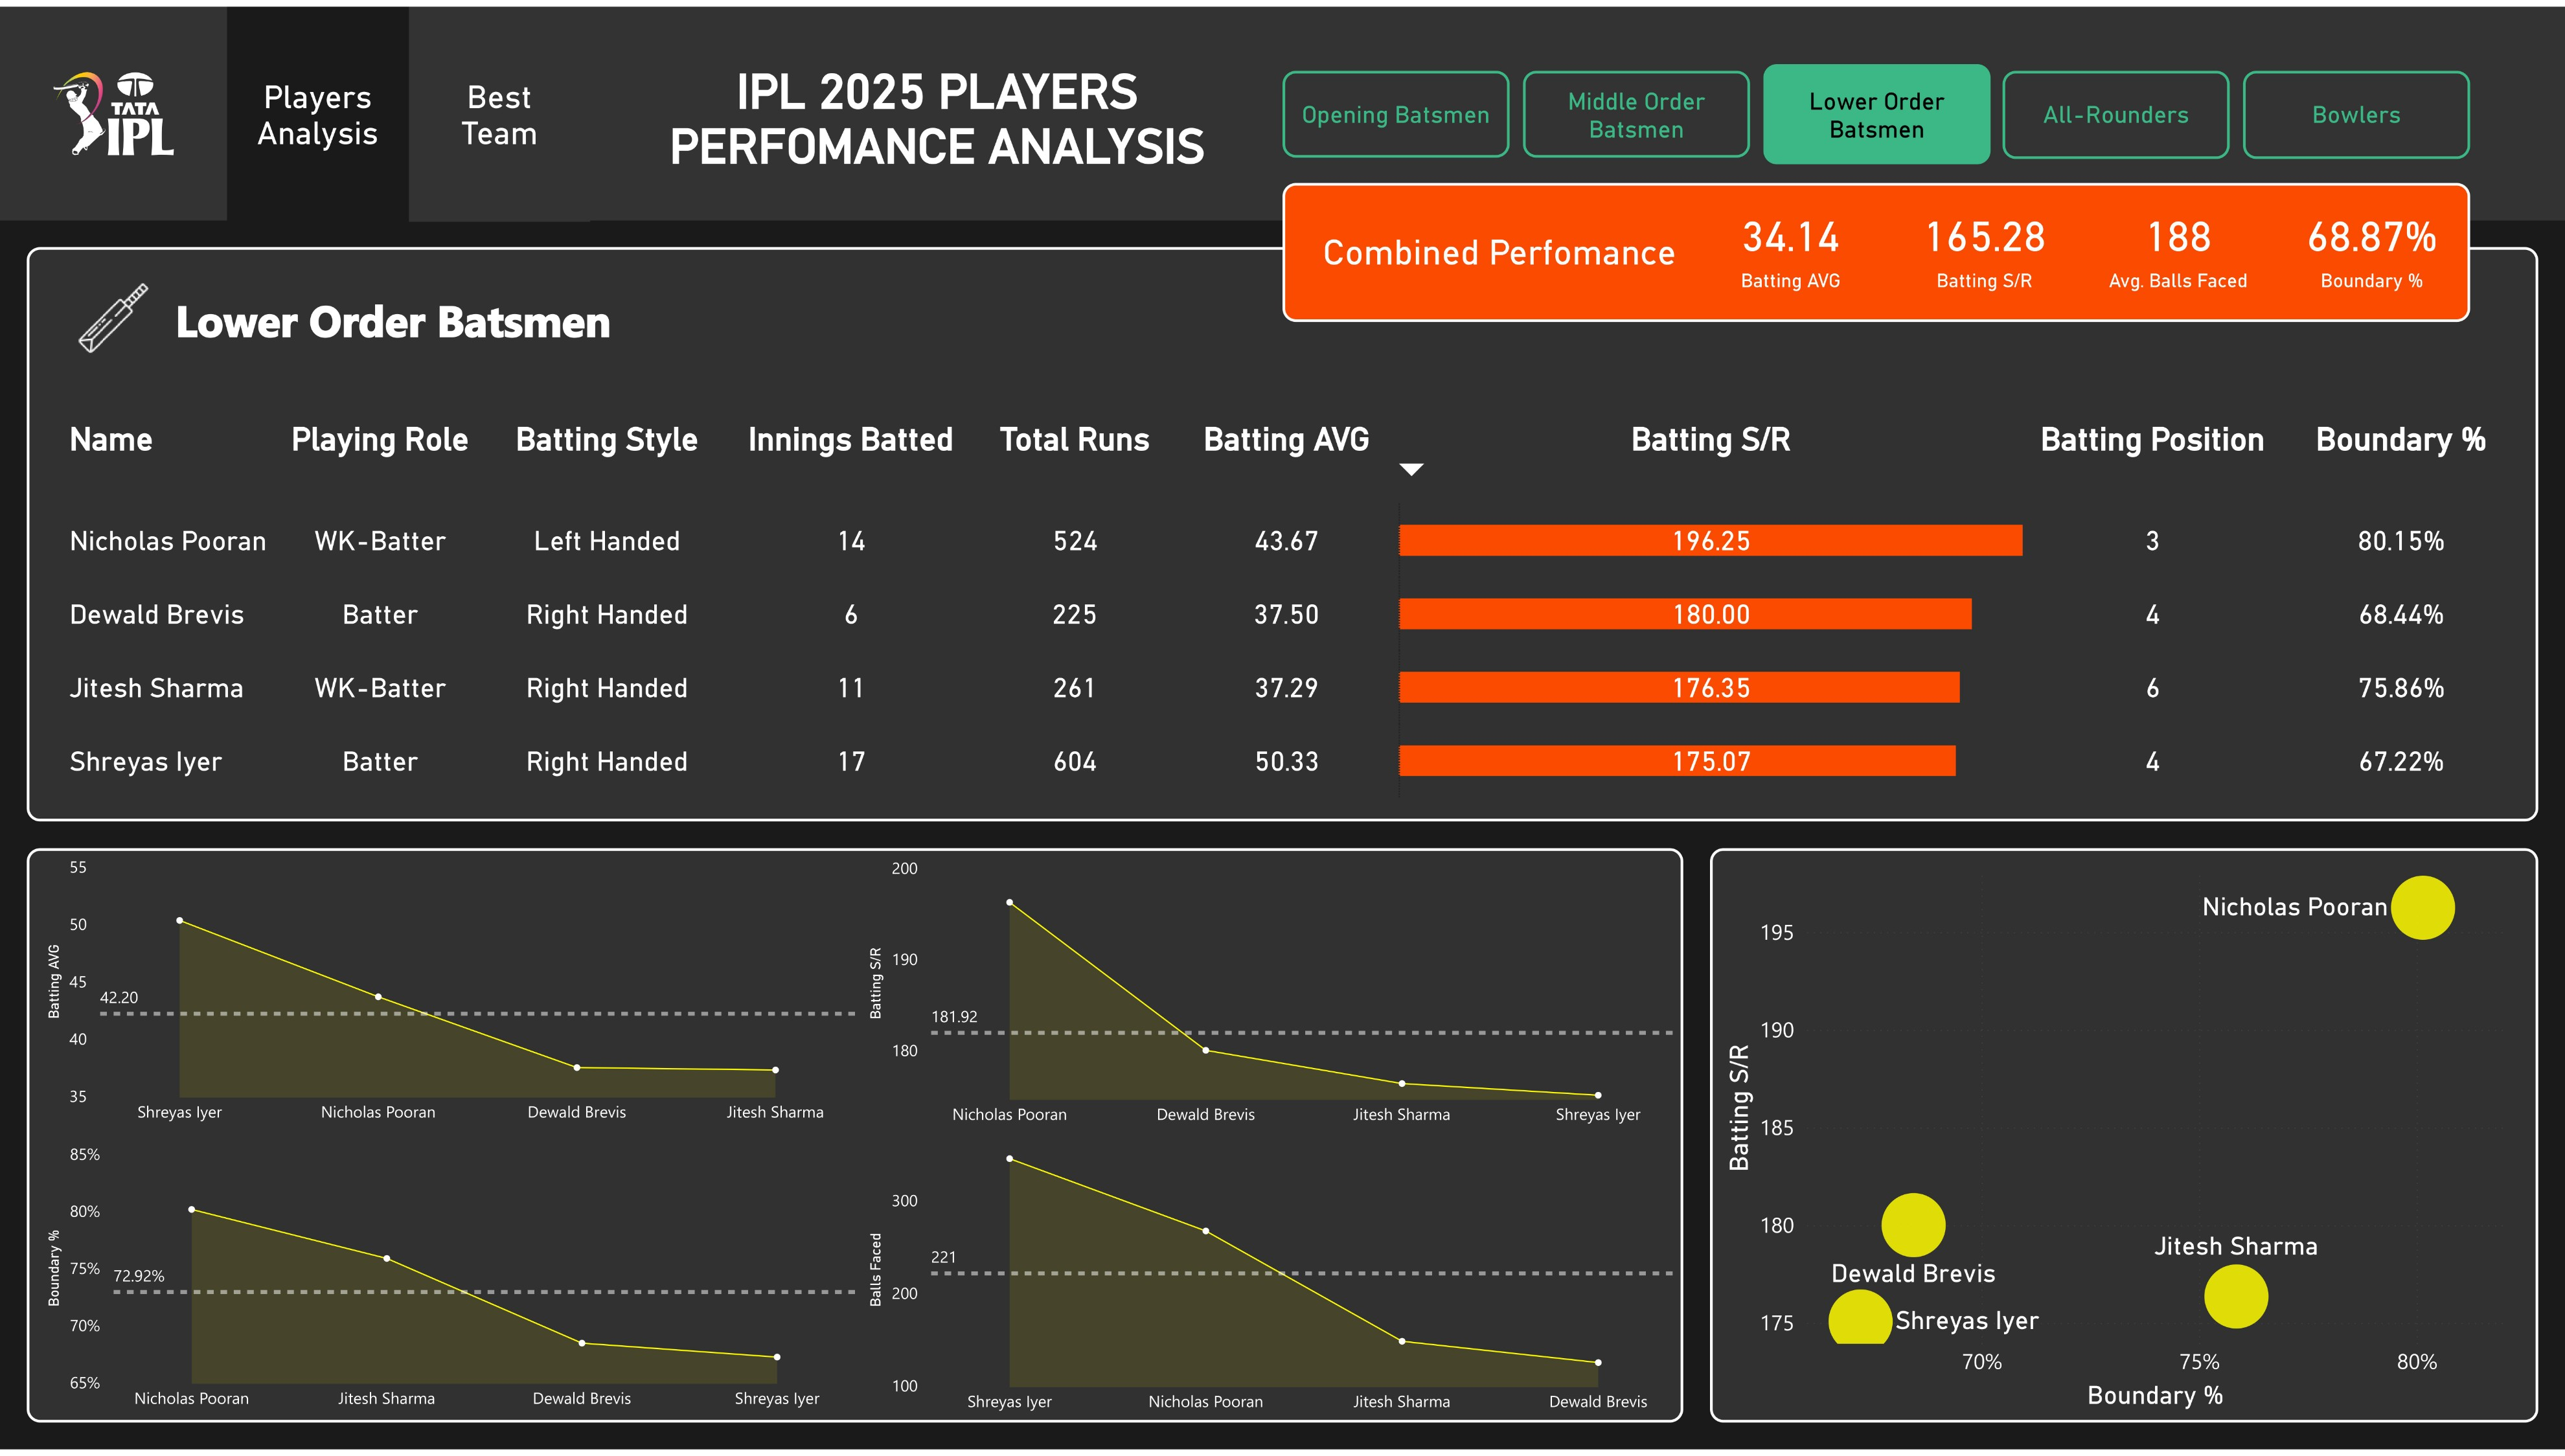

Layout of this report page (visuals, bound fields, positions):
{"tool":"powerbi","page":{"name":"Lower Order Batsmen","canvas":[1920,1080],"ordinal":2},"visuals":[{"type":"shape","box":[960,132.2,889.3,103.5],"z":0,"group":"g1"},{"type":"shape","box":[20,630,1240,430],"z":0},{"type":"cardVisual","fields":{"Data":["Key_Measures.Batting Avg","Key_Measures.Strike Rate","Key_Measures.Balls Faced","Key_Measures.Boundry %"]},"box":[1267.2,136,582.6,91.8],"z":1000,"group":"g1"},{"type":"shape","box":[20,180,1880,430],"z":1000},{"type":"shape","box":[962.7,155.9,319.2,53.2],"z":2000,"group":"g1"},{"type":"tableEx","fields":{"Values":["All_Players.Players Name","All_Players.Playing Role","All_Players.Batting Style","Key_Measures.Total Innings Batted","Key_Measures.Total Runs","Key_Measures.Batting Avg","Key_Measures.Strike Rate","Key_Measures.Batting Position","Key_Measures.Boundry %"]},"box":[41.4,288.6,1858.6,321.4],"z":2000},{"type":"scatterChart","title":"Batting Average Vs Strike Rate","fields":{"X":["Key_Measures.Boundry %"],"Series":["All_Players.Players Name"],"Y":["Batsmen_Records.Batting Strike Rate"]},"box":[1280,630,620,430],"z":3000},{"type":"areaChart","title":"Batting Average Vs Strike Rate","fields":{"Category":["All_Players.Players Name"],"Y":["Key_Measures.Batting Avg"]},"box":[30,630,615,215.7],"z":4000},{"type":"shape","box":[0,0,1920,160],"z":5000},{"type":"shape","box":[119.3,200,350.7,66.7],"z":6000},{"type":"shape","box":[442.9,7.1,517.1,152.9],"z":7000},{"type":"group","id":"g1","title":"Group 1","box":[960,132.2,889.8,103.5],"z":8000},{"type":"image","box":[35,30,100,100],"z":9000},{"type":"actionButton","box":[1140,48,170,65],"z":10000},{"type":"actionButton","box":[1320,43,170,75],"z":11000},{"type":"actionButton","box":[1678.6,48,170,65.7],"z":12000},{"type":"actionButton","box":[1498.6,48,170,65.7],"z":13000},{"type":"actionButton","box":[960,48,170,65],"z":14000},{"type":"actionButton","box":[306,0,135.7,161],"z":15000},{"type":"actionButton","box":[170,0,135.7,161],"z":16000},{"type":"image","box":[50,200,70,66.4],"z":17000},{"type":"areaChart","title":"Batting Average Vs Strike Rate","fields":{"Category":["All_Players.Players Name"],"Y":["Key_Measures.Strike Rate"]},"box":[645,630.7,615.1,216.4],"z":18000},{"type":"areaChart","title":"Batting Average Vs Strike Rate","fields":{"Category":["All_Players.Players Name"],"Y":["Key_Measures.Boundry %"]},"box":[30,845,615.1,215],"z":19000},{"type":"areaChart","title":"Batting Average Vs Strike Rate","fields":{"Category":["All_Players.Players Name"],"Y":["Key_Measures.Balls Faced"]},"box":[645,845,615.1,217.5],"z":20000}]}

Visuals, with their boxes in screenshot pixels (x1, y1, x2, y2), scaled from the page's 1920x1080 canvas onto the 2565x1456 screenshot:
shape: (x1=1282, y1=178, x2=2470, y2=318)
shape: (x1=27, y1=849, x2=1683, y2=1429)
cardVisual - Key_Measures.Batting Avg x Key_Measures.Strike Rate: (x1=1693, y1=183, x2=2471, y2=307)
shape: (x1=27, y1=243, x2=2538, y2=823)
shape: (x1=1286, y1=210, x2=1713, y2=282)
tableEx - All_Players.Players Name x All_Players.Playing Role: (x1=55, y1=389, x2=2538, y2=823)
"Batting Average Vs Strike Rate" scatterChart: (x1=1710, y1=849, x2=2538, y2=1429)
"Batting Average Vs Strike Rate" areaChart: (x1=40, y1=849, x2=861, y2=1140)
shape: (x1=0, y1=0, x2=2564, y2=216)
shape: (x1=159, y1=269, x2=628, y2=359)
shape: (x1=591, y1=10, x2=1282, y2=216)
"Group 1" group: (x1=1282, y1=178, x2=2471, y2=318)
image: (x1=47, y1=40, x2=180, y2=176)
actionButton: (x1=1523, y1=65, x2=1750, y2=152)
actionButton: (x1=1763, y1=58, x2=1990, y2=159)
actionButton: (x1=2242, y1=65, x2=2470, y2=154)
actionButton: (x1=2002, y1=65, x2=2229, y2=154)
actionButton: (x1=1282, y1=65, x2=1510, y2=152)
actionButton: (x1=409, y1=0, x2=590, y2=217)
actionButton: (x1=227, y1=0, x2=409, y2=217)
image: (x1=67, y1=269, x2=161, y2=359)
"Batting Average Vs Strike Rate" areaChart: (x1=861, y1=850, x2=1683, y2=1142)
"Batting Average Vs Strike Rate" areaChart: (x1=40, y1=1139, x2=862, y2=1429)
"Batting Average Vs Strike Rate" areaChart: (x1=861, y1=1139, x2=1683, y2=1433)
